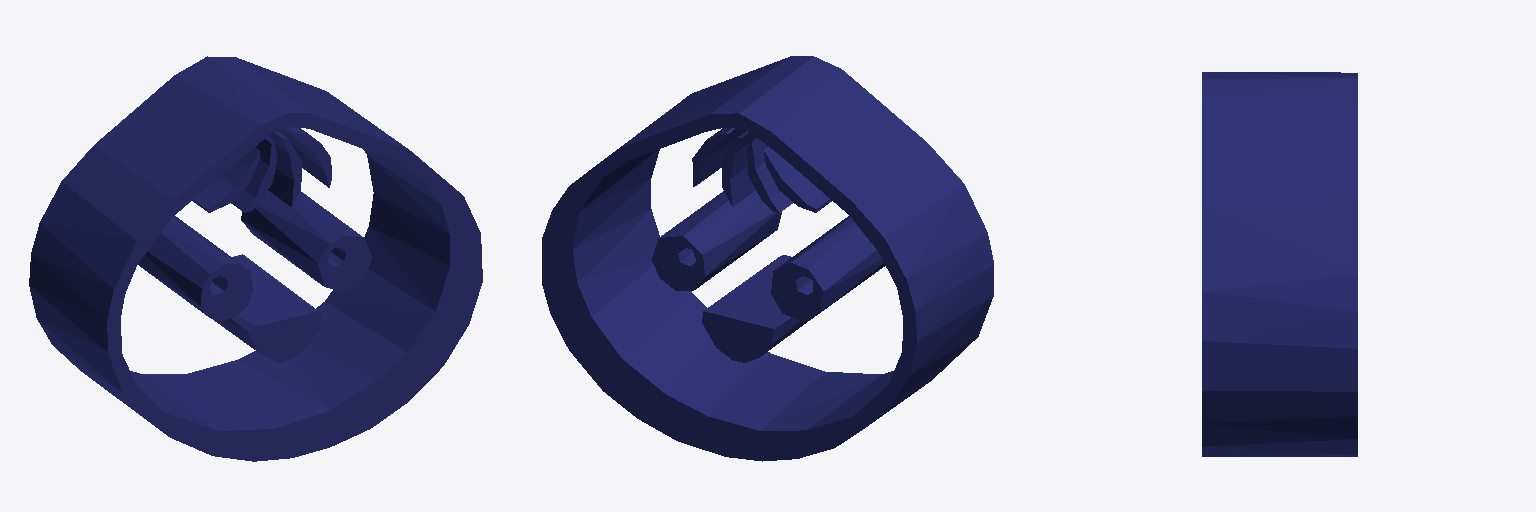
File: bun.obj
The picture shows the model from 3 angles: view 1: azimuth 30°, elevation 25°; view 2: azimuth 150°, elevation 25°; view 3: azimuth 270°, elevation 25°; orthographic projection.
Visible parts, largest first — view 1: obj_0; view 2: obj_0; view 3: obj_0.
Part boxes in pixels (left/top/right/bottom): obj_0: left=29, top=56, right=482, bottom=461; obj_0: left=542, top=56, right=993, bottom=461; obj_0: left=1202, top=72, right=1357, bottom=456.
Bounding box in the file's own units: 6.25 × 5.51 × 2.24.